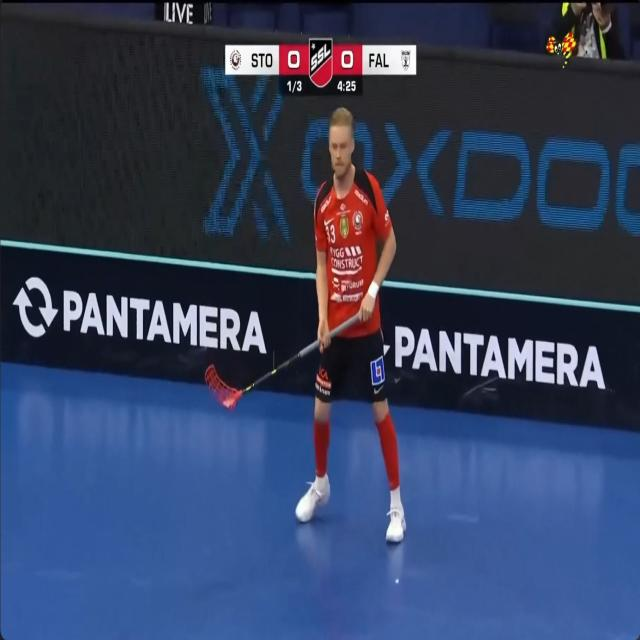player: (296, 108, 405, 542)
stick: (205, 340, 319, 408)
